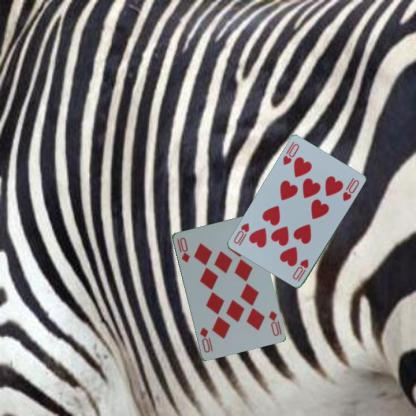10d: (174, 234, 191, 264), (266, 308, 282, 337)
10h: (290, 257, 310, 283), (280, 141, 300, 166)
